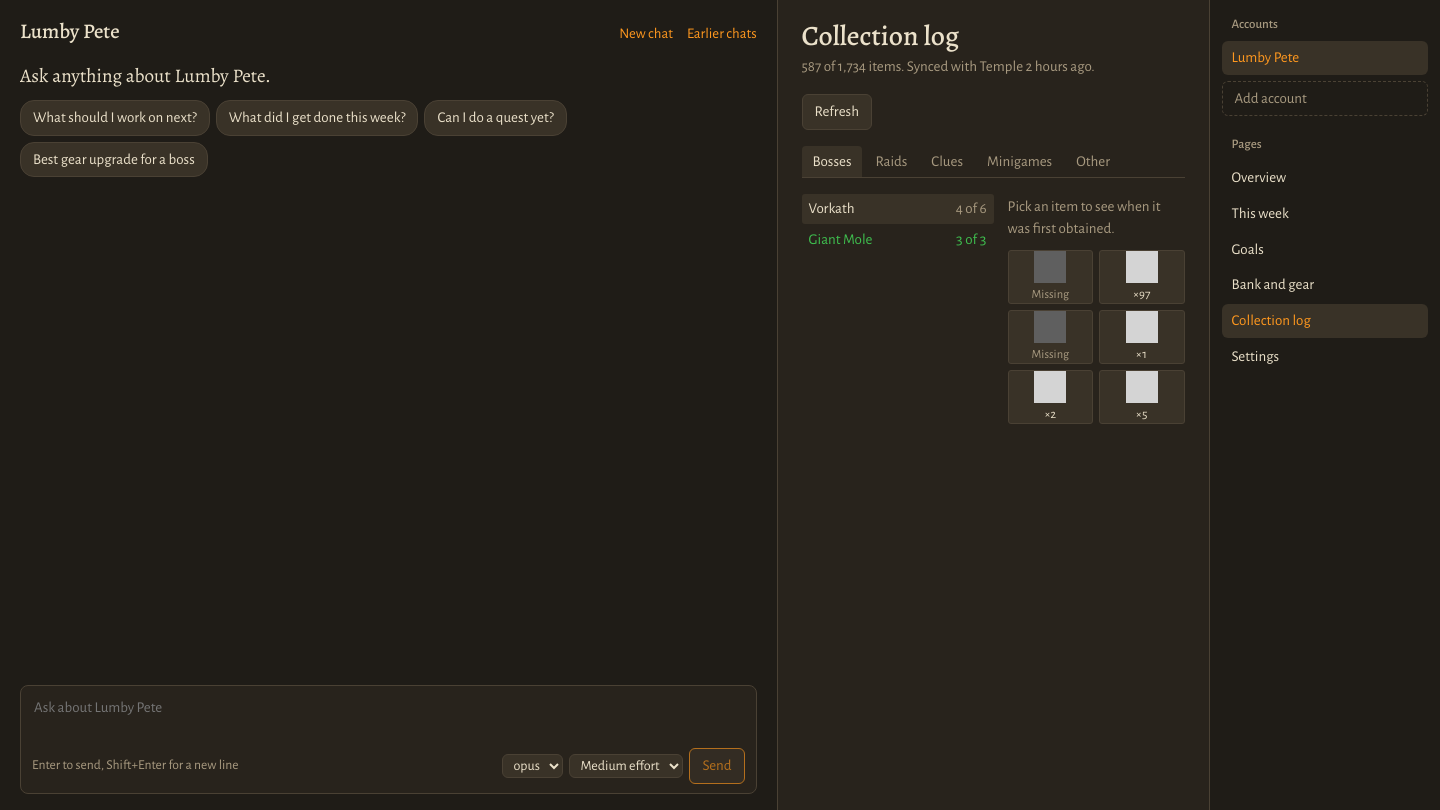
Test case: CollectionLog › says an item is obtained when Temple has no count for it
Click the tab "Minigames" at {"x": 1020, "y": 162}, box [976,146,1063,178]
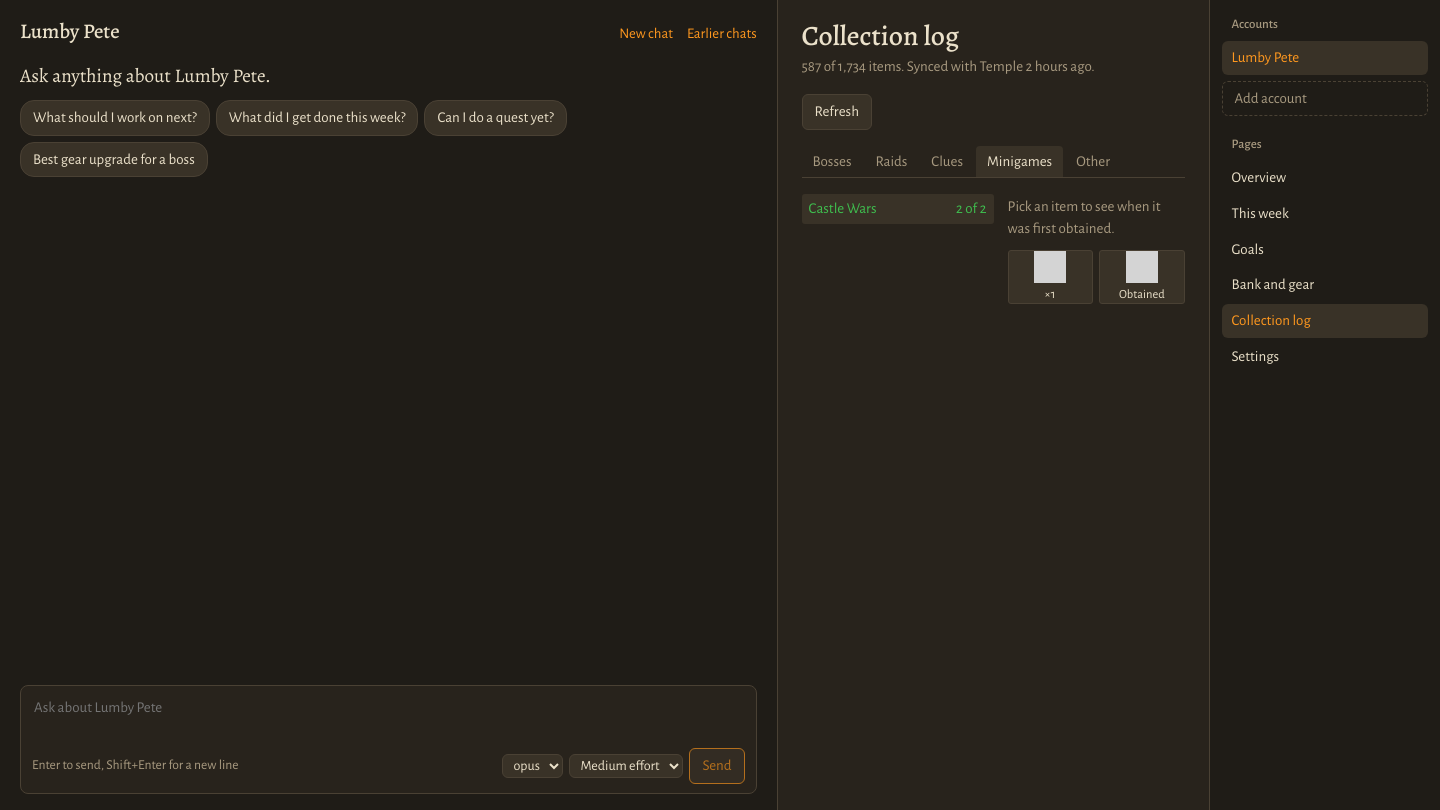
Now the buttons read "×1", "Obtained", in this order, box [1008,250,1093,304]; [1099,250,1185,304]
